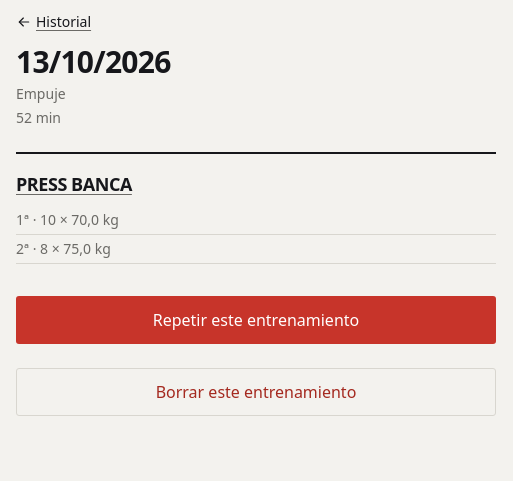
Test case: WorkoutDetailPage › asks before deleting, and says what deleting means
Click the button "Borrar este entrenamiento" at (256, 392), box [16, 368, 496, 416]
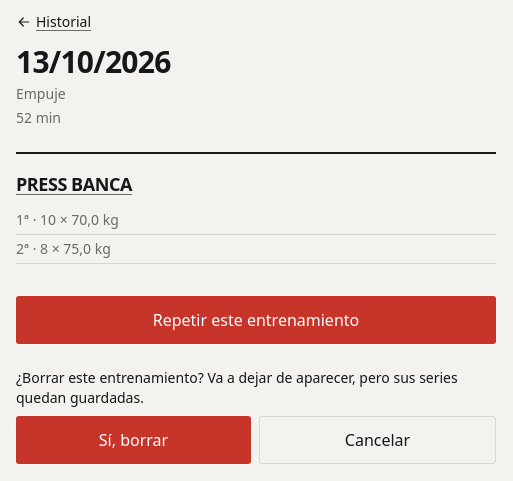
Check: the message shows "sus series quedan guardadas", box [16, 368, 458, 407]
